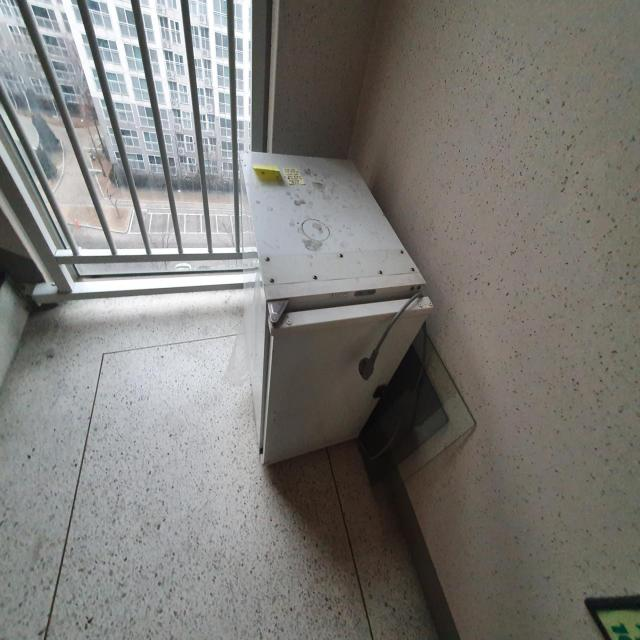refrigerator: (236, 148, 434, 465)
